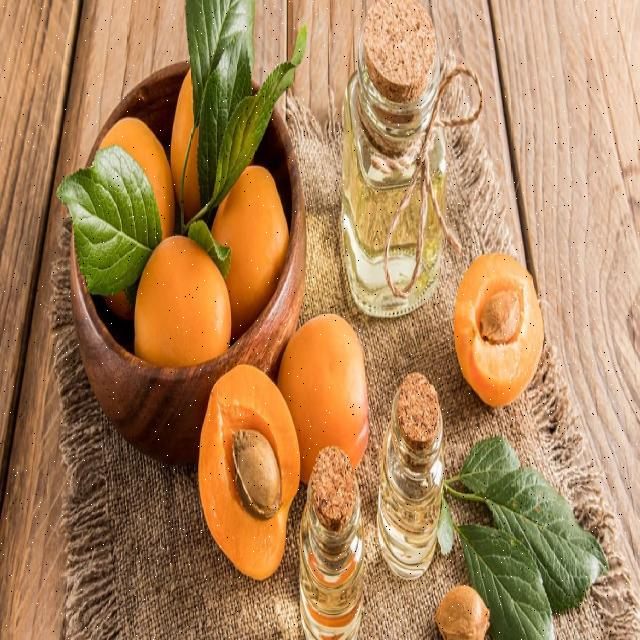Cekirdek: (232, 429, 282, 519), (479, 292, 520, 344)
Kayisi: (199, 365, 300, 580), (278, 314, 369, 482), (455, 254, 543, 405), (212, 165, 288, 338), (135, 236, 231, 367)
Yaprak: (449, 436, 609, 639), (181, 0, 307, 239), (58, 146, 162, 295)
